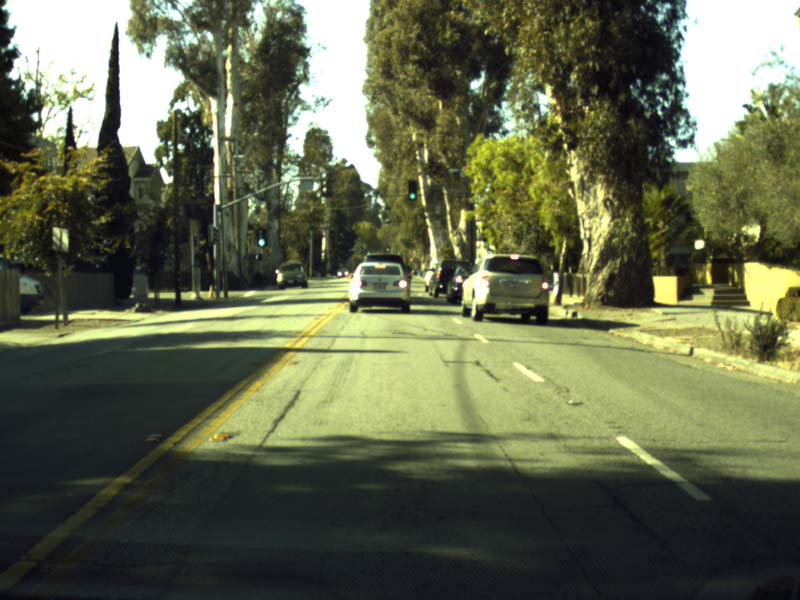Green: (256, 229, 266, 247), (408, 180, 415, 200)
